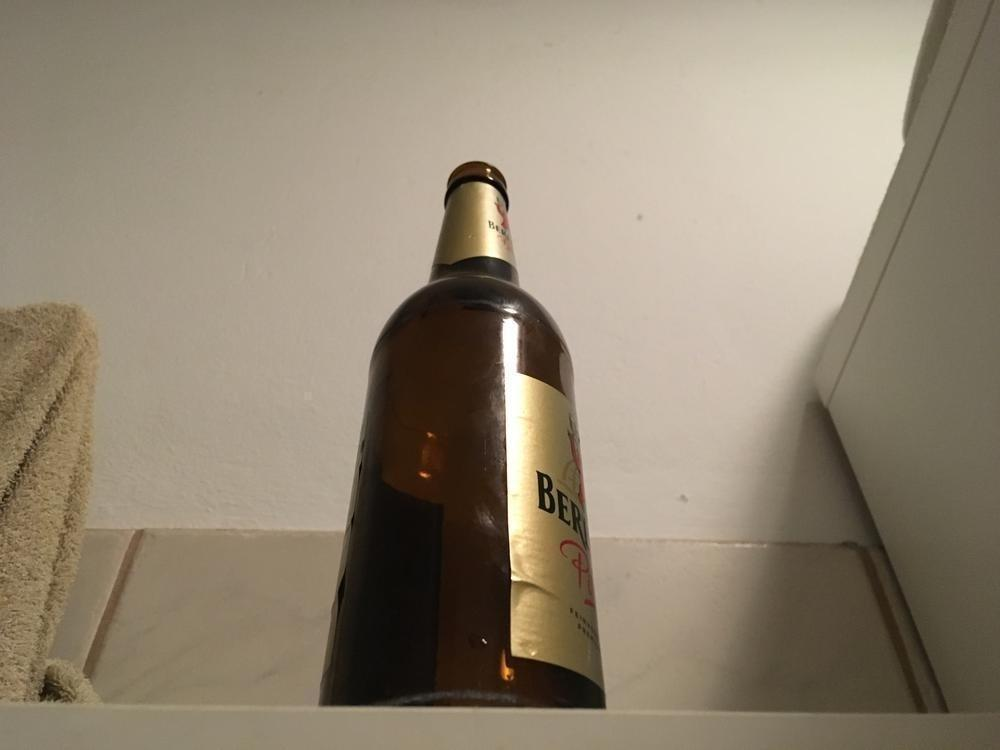bottle-glass: (315, 159, 609, 711)
